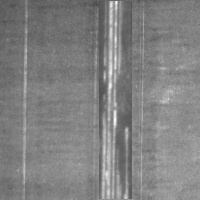scratches: (99, 1, 132, 199), (18, 4, 32, 197)
